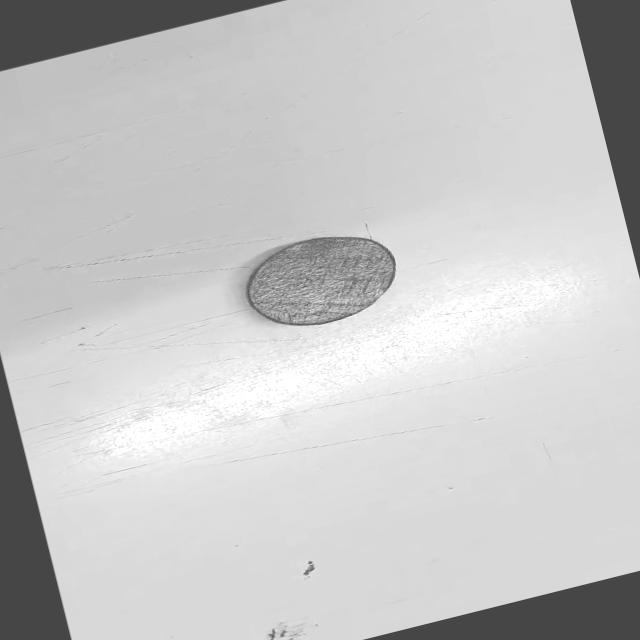rcircle: (246, 237, 397, 326)
